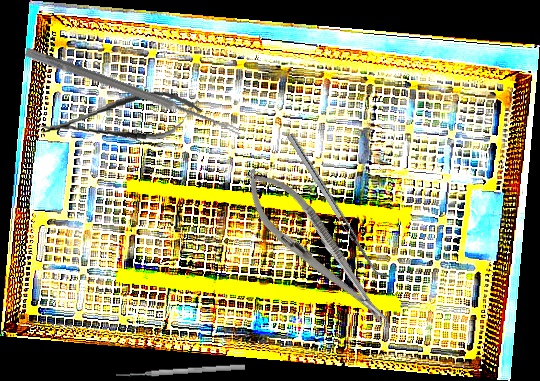Micro Scissor: (37, 85, 206, 152)
Needle Holder: (230, 155, 403, 341)
Pusher: (115, 362, 246, 380)
Spatula Surgical: (286, 129, 391, 285)
Surgical Spoon: (23, 47, 242, 136)
